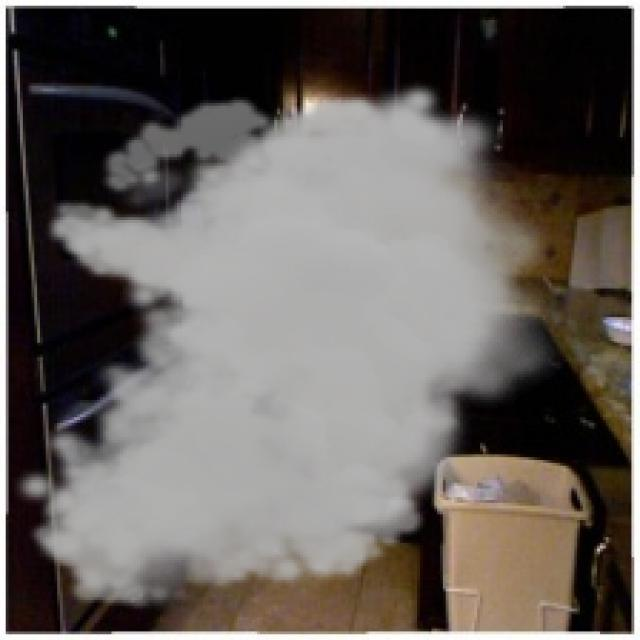Smoke: (11, 79, 568, 612)
